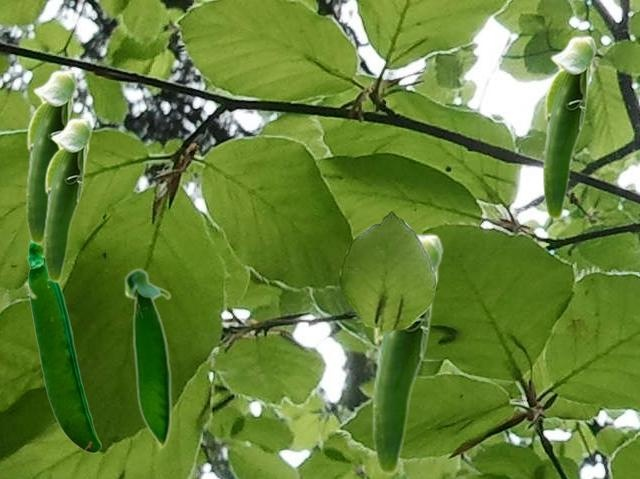pea: (371, 233, 443, 475), (26, 240, 100, 452), (542, 35, 596, 219), (25, 69, 77, 244), (123, 267, 171, 451), (43, 117, 92, 282)
